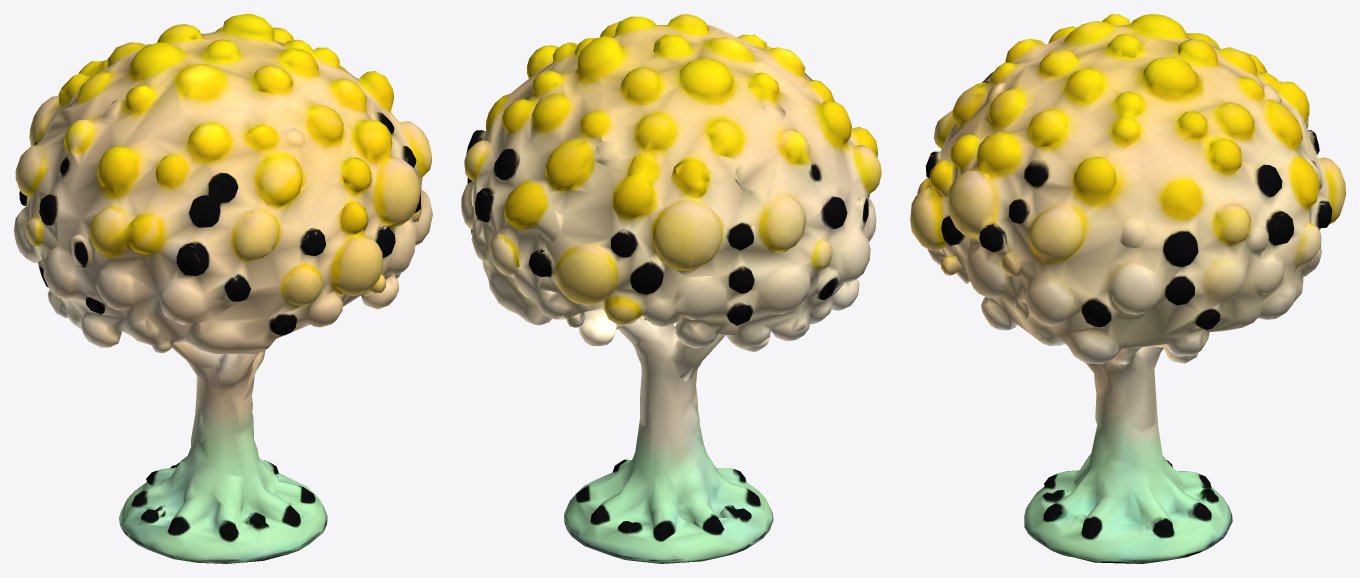
Rendered from clay-tree.glb.
3 views of the same model, side by side, from view 1: azimuth 30°, elevation 25°; view 2: azimuth 150°, elevation 25°; view 3: azimuth 270°, elevation 25° (orthographic).
Size of the model in its own units: 1.54 by 1.91 by 1.56.
1 material, 1 textured.
